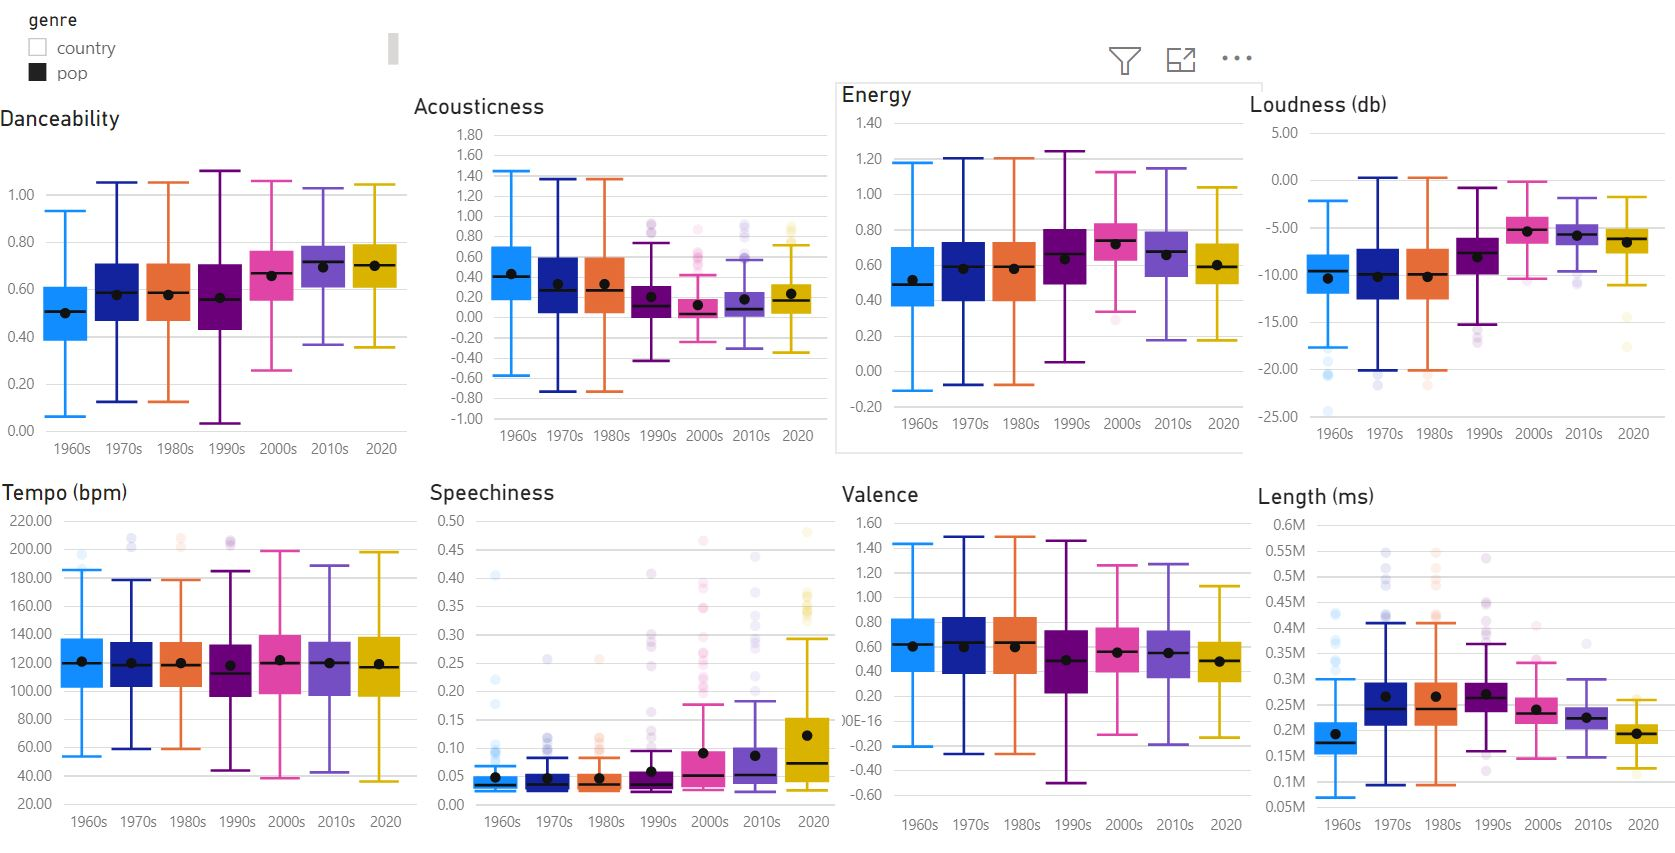

Layout of this report page (visuals, bound fields, positions):
{"tool":"powerbi","page":{"name":"Box Plots","canvas":[1280,720],"ordinal":0},"visuals":[{"type":"BoxWhiskerChart1455240051538","title":"Danceability","fields":{"Values":["Sum(country_pop.danceability)"],"Samples":["country_pop.name"],"Groups":["country_pop.playlist"]},"box":[0,153.4,323.8,282.1],"z":0},{"type":"textbox","box":[0,0,1238.1,73.1],"z":1000},{"type":"BoxWhiskerChart1455240051538","title":"Tempo (bpm)","fields":{"Values":["Sum(country_pop.tempo)"],"Groups":["country_pop.playlist"],"Samples":["country_pop.name"]},"box":[2,436.7,325,281],"z":2000},{"type":"BoxWhiskerChart1455240051538","title":"Acousticness","fields":{"Values":["Sum(country_pop.acousticness)"],"Samples":["country_pop.name"],"Groups":["country_pop.playlist"]},"box":[314.4,143.5,324.2,281.3],"z":3000},{"type":"BoxWhiskerChart1455240051538","title":"Speechiness","fields":{"Values":["Sum(country_pop.speechiness)"],"Samples":["country_pop.name"],"Groups":["country_pop.playlist"]},"box":[325.8,437.1,325.8,281.3],"z":4000},{"type":"BoxWhiskerChart1455240051538","title":"Energy","fields":{"Values":["Sum(country_pop.energy)"],"Samples":["country_pop.name"],"Groups":["country_pop.playlist"]},"box":[638.6,135.6,324.2,281.3],"z":5000},{"type":"BoxWhiskerChart1455240051538","title":"Valence","fields":{"Values":["Sum(country_pop.valence)"],"Samples":["country_pop.name"],"Groups":["country_pop.playlist"]},"box":[638.5,438.3,326.1,282.1],"z":6000},{"type":"BoxWhiskerChart1455240051538","title":"Loudness (db)","fields":{"Values":["Sum(country_pop.loudness)"],"Samples":["country_pop.name"],"Groups":["country_pop.playlist"]},"box":[948.6,142,325,281.3],"z":7000},{"type":"BoxWhiskerChart1455240051538","title":"Length (ms)","fields":{"Values":["Sum(country_pop.length)"],"Groups":["country_pop.playlist"],"Samples":["country_pop.name"]},"box":[953.3,439.4,326.4,280.6],"z":8000},{"type":"slicer","fields":{"Values":["country_pop.genre"]},"box":[13.3,73.8,299.2,64.4],"z":9000}]}

Visuals, with their boxes on the page's 1280x720 design canvas (x1, y1, x2, y2). These are canvas units, not pixel positions in the 1675x853 screenshot, which may show the page scaled, cropped or inside an application window:
"Danceability" BoxWhiskerChart1455240051538: bbox=[0, 153, 324, 436]
textbox: bbox=[0, 0, 1238, 73]
"Tempo (bpm)" BoxWhiskerChart1455240051538: bbox=[2, 437, 327, 718]
"Acousticness" BoxWhiskerChart1455240051538: bbox=[314, 144, 639, 425]
"Speechiness" BoxWhiskerChart1455240051538: bbox=[326, 437, 652, 718]
"Energy" BoxWhiskerChart1455240051538: bbox=[639, 136, 963, 417]
"Valence" BoxWhiskerChart1455240051538: bbox=[638, 438, 965, 720]
"Loudness (db)" BoxWhiskerChart1455240051538: bbox=[949, 142, 1274, 423]
"Length (ms)" BoxWhiskerChart1455240051538: bbox=[953, 439, 1280, 720]
slicer - country_pop.genre: bbox=[13, 74, 312, 138]
